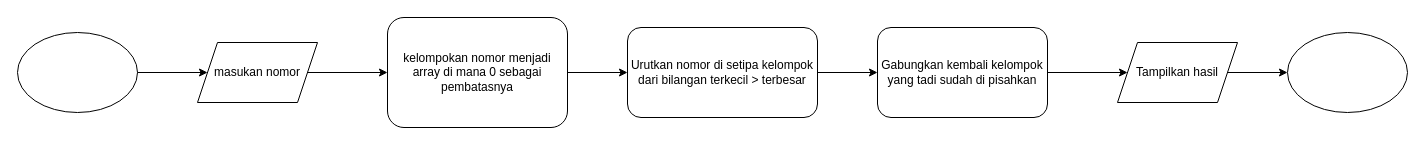
The diagram is 1425 pixels wide and 145 high, and some of its shapes have lost their labels. The centre of each missing label's shape, as x and y in pixels:
"Mulai" goes at pixel 77 72.
"Selesai" goes at pixel 1347 72.
